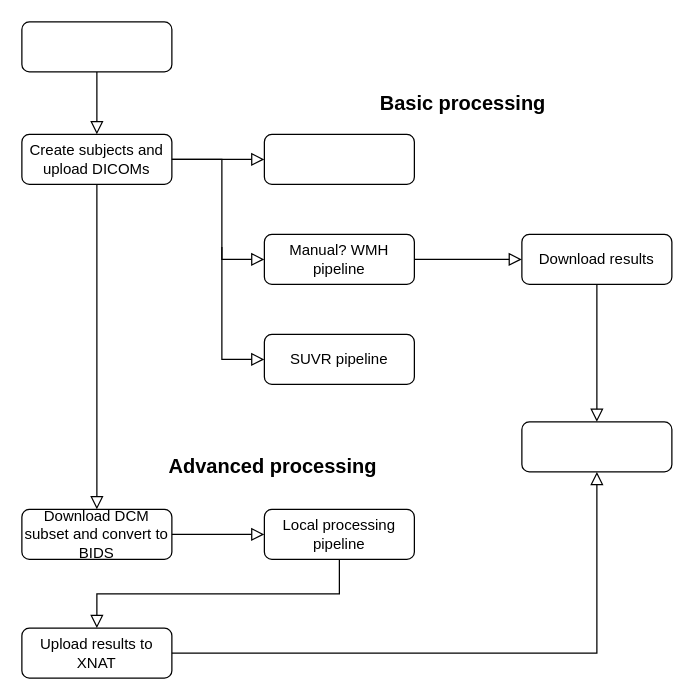
Some shapes in this 694 by 700 pixel diagram are drawn without their labels. The shapes that lost their labels are listed below. From the top down, each one's centre as x and y in pixels, then its label:
At point (96, 46): "Create XNAT project".
At point (338, 158): "Automatic FS pipeline".
At point (596, 446): "Report".
